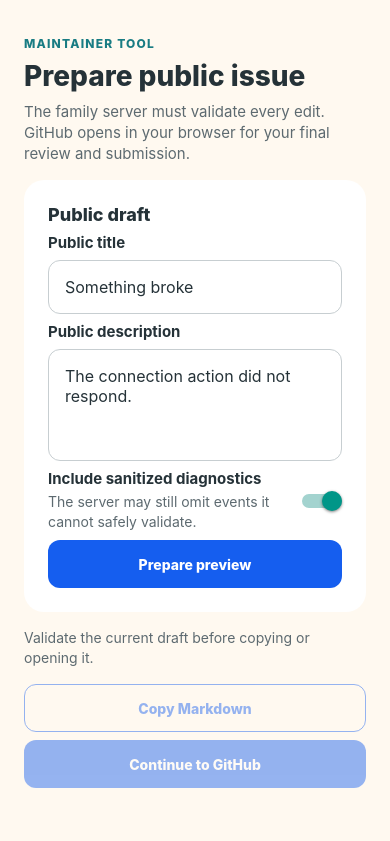
Test: maintainer-only public feedback handoff › copies the validated Markdown before marking the reviewed revision EXPORTED
The width and height of the screenshot is (390, 841).
Click the button "Prepare preview".
click(195, 564)  # box [48, 540, 342, 588]
(page scrolled)
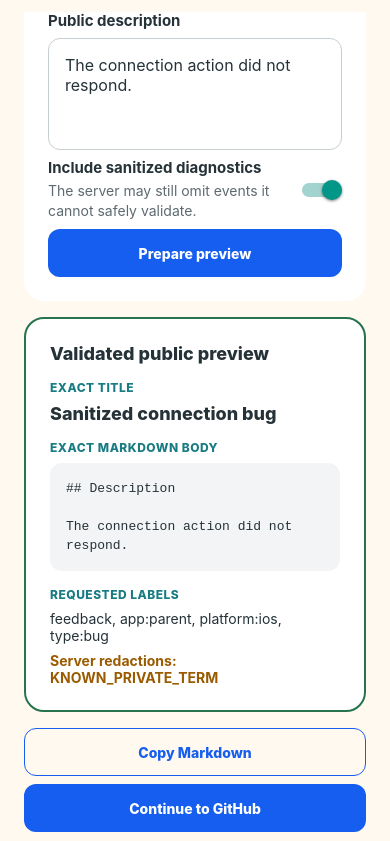
Click the button with aria-label "Copy validated Markdown".
click(195, 752)  # box [24, 728, 366, 776]
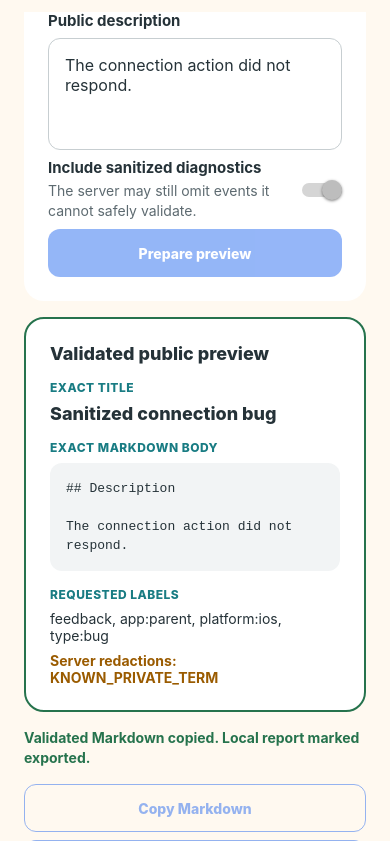
Check: the text "Validated Markdown copied. Local report marked exported." is shown, box [24, 728, 366, 768]
